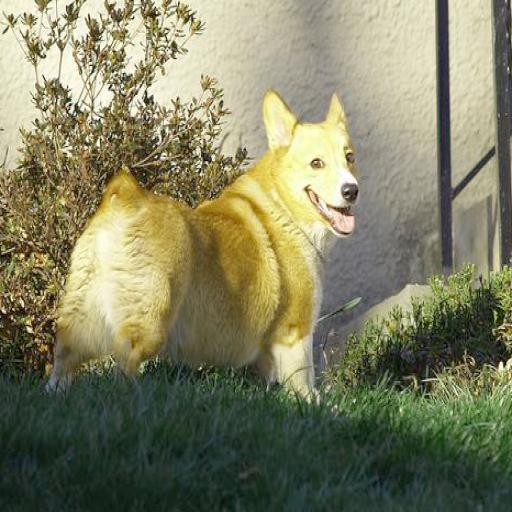dog_face: (259, 90, 363, 242)
